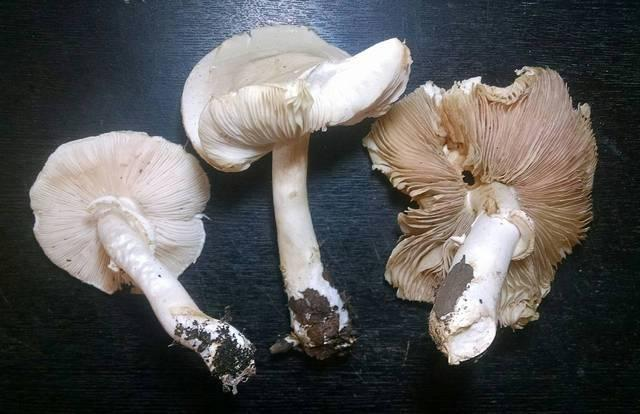Non-edible Mushroom: (179, 22, 413, 361), (361, 63, 599, 366), (27, 128, 257, 395)
